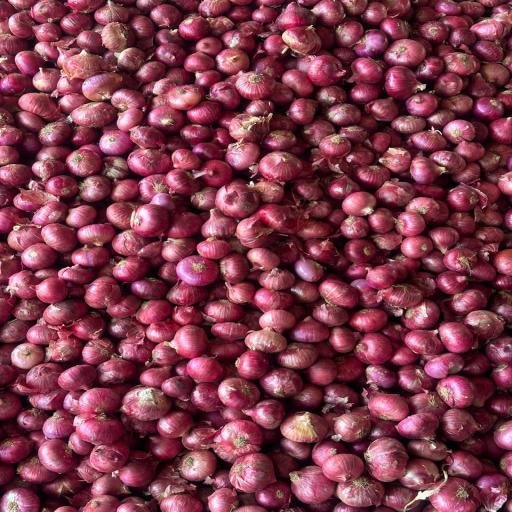damaged: (395, 488, 490, 512)
healthy: (215, 179, 261, 219), (257, 148, 307, 181), (70, 386, 120, 416), (73, 415, 123, 444), (217, 377, 260, 410), (39, 436, 78, 472), (176, 447, 216, 482), (128, 146, 173, 177), (307, 54, 349, 87), (441, 407, 480, 442), (130, 204, 170, 238), (281, 25, 326, 55), (400, 298, 442, 330), (118, 456, 158, 489), (176, 256, 218, 287), (260, 367, 302, 398), (96, 356, 137, 387), (332, 408, 371, 440), (66, 144, 102, 178), (384, 67, 421, 100), (85, 276, 123, 308), (353, 332, 391, 364), (397, 412, 442, 439), (366, 393, 409, 421), (387, 37, 427, 67), (322, 452, 363, 481), (438, 321, 474, 354), (71, 102, 118, 127), (224, 139, 261, 170), (445, 287, 489, 313), (176, 323, 208, 358), (319, 276, 359, 304), (257, 480, 293, 511), (235, 72, 276, 99), (160, 83, 206, 107), (374, 182, 416, 208), (410, 152, 443, 185), (446, 183, 483, 212), (112, 256, 150, 284), (59, 364, 97, 392), (274, 344, 318, 368), (251, 398, 286, 428), (158, 237, 200, 262), (40, 223, 76, 252), (157, 492, 209, 512), (403, 329, 443, 355), (157, 410, 194, 438), (350, 305, 388, 332), (253, 288, 294, 313), (218, 252, 249, 285), (112, 89, 151, 115), (0, 487, 40, 512), (12, 52, 52, 77), (236, 350, 269, 380), (244, 328, 287, 351), (186, 357, 224, 383), (147, 107, 185, 133), (289, 320, 330, 344), (82, 336, 117, 364), (201, 213, 237, 240), (144, 432, 181, 458), (291, 383, 322, 414), (353, 29, 387, 57), (78, 176, 112, 204), (407, 438, 450, 460), (20, 243, 56, 269), (181, 424, 217, 450), (166, 168, 202, 194), (318, 134, 354, 160), (0, 435, 32, 464), (209, 80, 241, 109), (200, 158, 232, 187), (428, 226, 460, 255), (99, 128, 132, 156), (342, 191, 378, 216), (324, 103, 360, 128), (205, 300, 244, 323), (305, 357, 337, 385), (469, 19, 506, 43), (110, 230, 144, 256), (70, 245, 110, 267), (310, 304, 350, 326), (191, 383, 221, 412), (395, 210, 426, 238), (36, 276, 68, 303), (405, 92, 438, 118), (161, 373, 194, 399), (444, 118, 477, 144), (38, 120, 71, 146), (217, 48, 250, 74), (72, 314, 105, 340), (34, 201, 68, 226), (473, 96, 507, 121), (74, 495, 124, 512), (288, 98, 318, 126), (16, 408, 51, 432), (179, 15, 210, 42), (76, 222, 114, 244), (167, 282, 205, 304), (410, 130, 448, 152), (256, 268, 294, 290), (352, 57, 384, 83), (348, 82, 384, 105), (332, 21, 365, 46), (186, 102, 220, 126), (344, 239, 378, 263), (130, 278, 167, 300), (0, 162, 32, 187), (248, 246, 281, 270), (257, 308, 293, 330), (44, 174, 77, 198), (416, 55, 444, 83), (366, 98, 400, 121), (28, 22, 65, 43), (294, 257, 325, 282), (206, 488, 238, 512), (437, 270, 469, 294), (139, 299, 172, 322), (328, 327, 357, 353), (435, 72, 465, 97), (381, 16, 411, 41), (278, 440, 312, 462), (172, 303, 204, 326), (144, 320, 176, 343), (401, 236, 434, 258), (67, 204, 97, 228), (340, 216, 370, 240), (369, 208, 396, 234), (364, 0, 388, 29), (184, 52, 215, 74), (250, 4, 281, 26), (391, 115, 426, 134), (76, 28, 104, 51), (491, 115, 512, 145), (196, 36, 224, 58), (194, 70, 222, 89), (492, 362, 512, 388), (431, 0, 460, 17), (494, 247, 512, 274)
